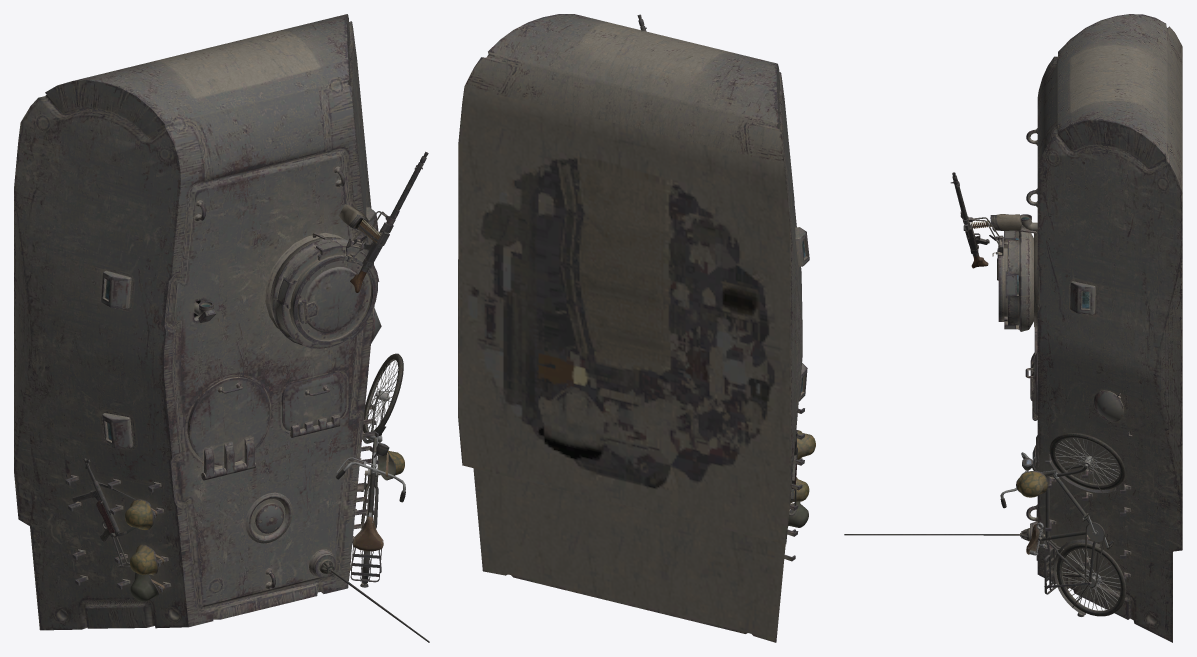
Rendered from Turret_01.glb.
3 renders of one model, left to right at view 1: azimuth 30°, elevation 25°; view 2: azimuth 150°, elevation 25°; view 3: azimuth 270°, elevation 25°, orthographic. The views are drawn at different scales.
Parts seen in each view (by area): view 1: set_0_group_0; view 2: set_0_group_0; view 3: set_0_group_0.
Boxes of the visible parts, left/top/right/bottom form: set_0_group_0: left=14, top=14, right=429, bottom=642; set_0_group_0: left=458, top=14, right=815, bottom=642; set_0_group_0: left=844, top=14, right=1182, bottom=642.
Bounding box in the file's own units: 3.07 × 4.76 × 2.89.
Materials: 1 (1 with a texture image).
